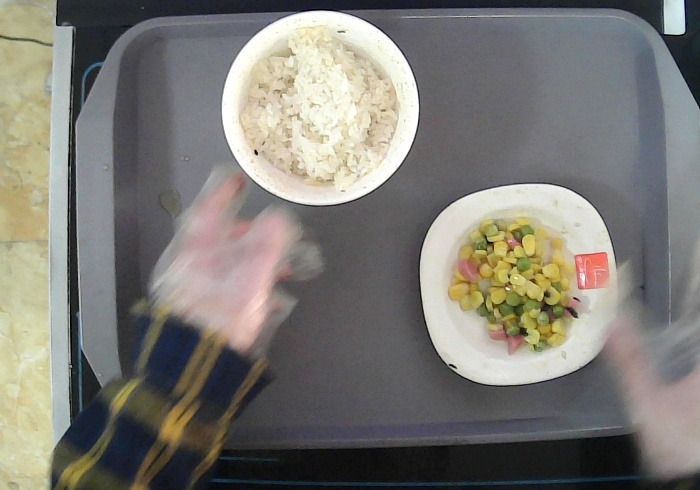SHKJ-Bai_Se_Si_Fang_Cai_Die: (417, 180, 619, 388)
SHKJ-Fan_Wan: (219, 9, 422, 207)
